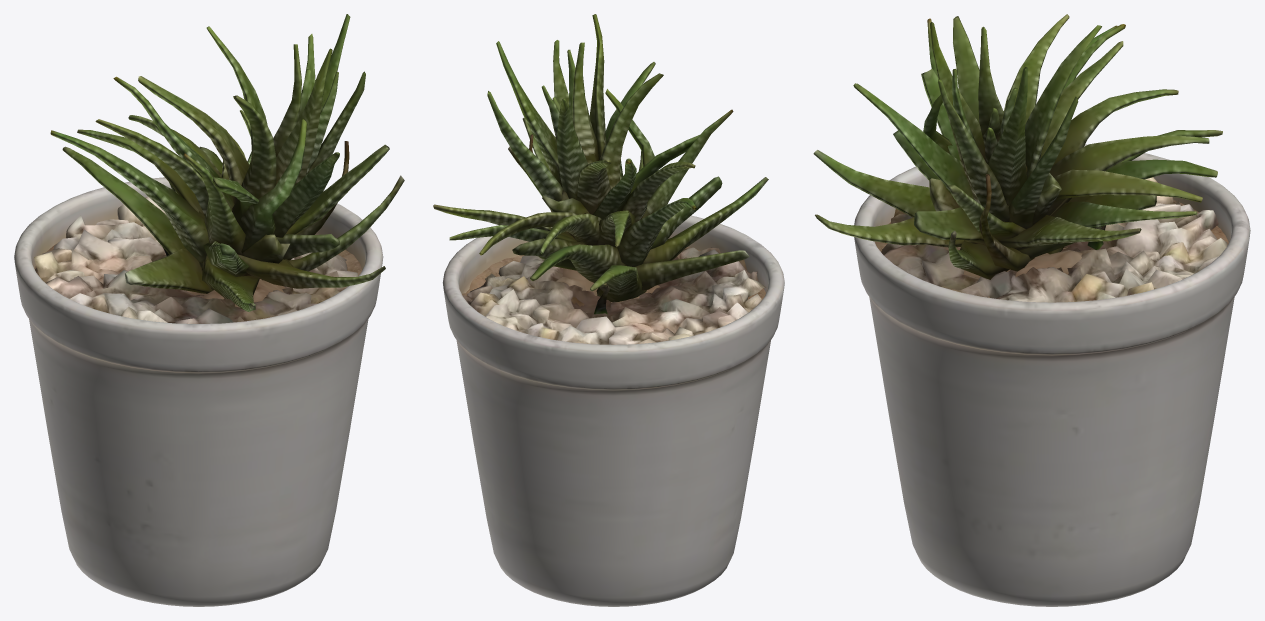
The model's file is potted_plant_04.gltf.
3 renders of one model, left to right at view 1: azimuth 30°, elevation 25°; view 2: azimuth 150°, elevation 25°; view 3: azimuth 270°, elevation 25°, orthographic. The views are drawn at different scales.
Visible parts, largest first — view 1: potted_plant_04_pot, potted_plant_04_plant, potted_plant_04_ground, potted_plant_04_dirt; view 2: potted_plant_04_pot, potted_plant_04_plant, potted_plant_04_ground, potted_plant_04_dirt; view 3: potted_plant_04_pot, potted_plant_04_plant, potted_plant_04_ground, potted_plant_04_dirt.
Boxes of the visible parts, box(x1,y1,x2,y2) form: potted_plant_04_pot: box(14, 177, 383, 606); potted_plant_04_plant: box(50, 14, 404, 311); potted_plant_04_ground: box(34, 196, 357, 323); potted_plant_04_dirt: box(34, 238, 362, 307); potted_plant_04_pot: box(442, 215, 784, 606); potted_plant_04_plant: box(433, 14, 768, 314); potted_plant_04_ground: box(463, 247, 765, 344); potted_plant_04_dirt: box(462, 247, 765, 306); potted_plant_04_pot: box(854, 144, 1250, 606); potted_plant_04_plant: box(813, 14, 1222, 279); potted_plant_04_ground: box(881, 177, 1227, 302); potted_plant_04_dirt: box(875, 200, 1228, 297).
Size of the model in its own units: 0.1679 by 0.2675 by 0.1848.
1 material, 1 textured.
